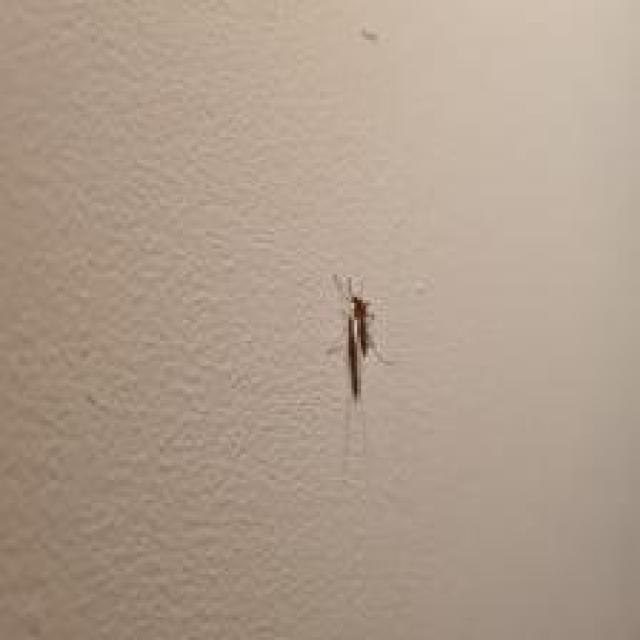Culex: (336, 273, 378, 401)
